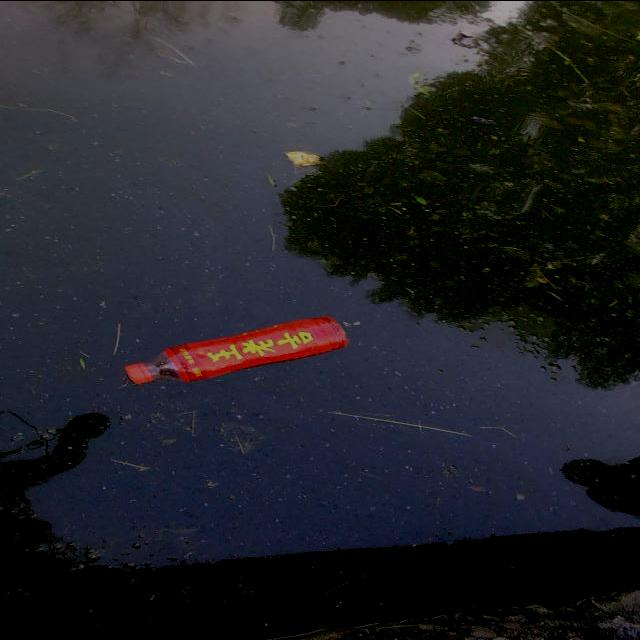bottle: (118, 293, 356, 402)
